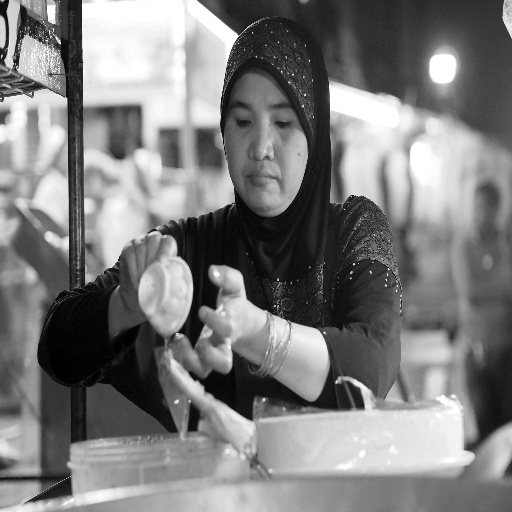hand: (188, 265, 269, 387), (118, 231, 178, 321)
